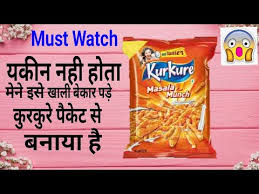kurkure: (140, 59, 197, 83)
plastic: (126, 39, 216, 157)
wrapper: (122, 33, 219, 160)
